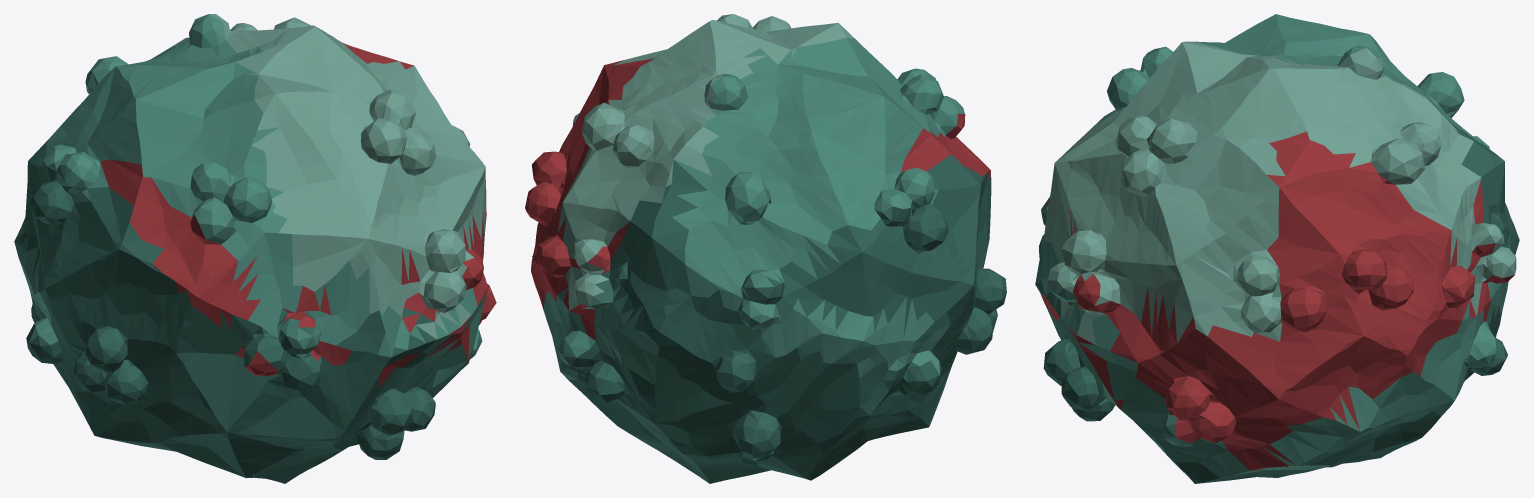
File: bush_berry.glb
3 views of the same model, side by side, from view 1: azimuth 30°, elevation 25°; view 2: azimuth 150°, elevation 25°; view 3: azimuth 270°, elevation 25° (orthographic).
Parts seen in each view (by area): view 1: geometry_0; view 2: geometry_0; view 3: geometry_0.
Boxes of the visible parts, x1,y1,x2,y2 form: geometry_0: (14,14,496,483); geometry_0: (525,14,1006,483); geometry_0: (1035,14,1519,483).
Size of the model in its own units: 1.99 by 1.91 by 1.99.
